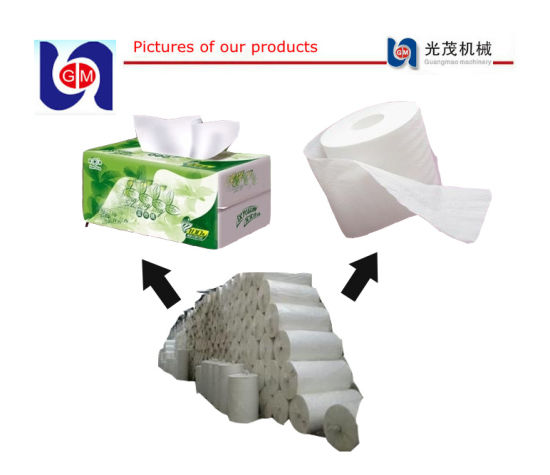Tissue: (300, 99, 493, 245)
